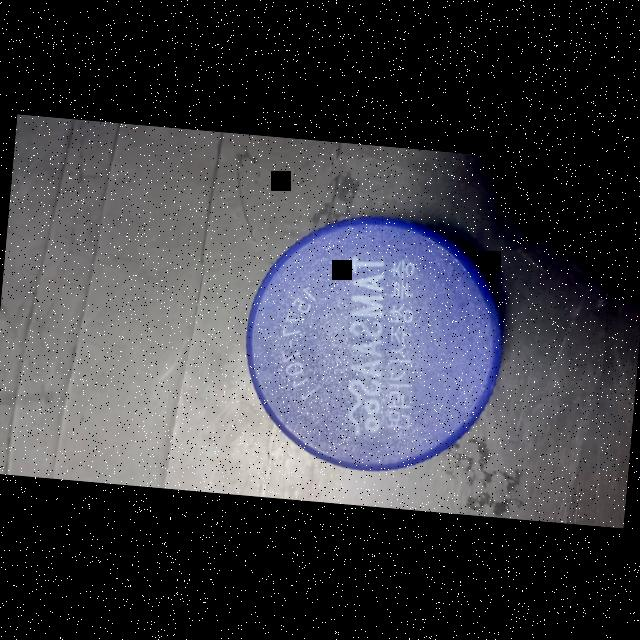plastic_bottle_cap: (230, 205, 520, 488)
